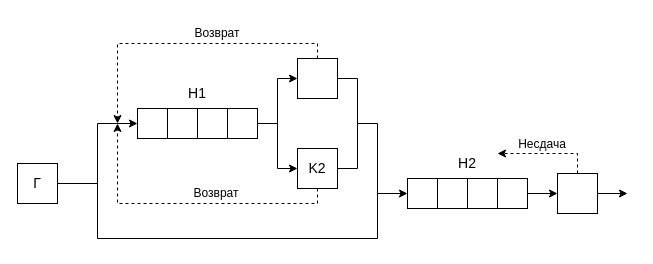
Image size: 653x264. Some labels were removed from this diagram. The shapes that lost their labels are listed below. From the top down, each one's centre as x and y in pixels, then its label:
the point at 317,78: K1
the point at 577,193: K3
